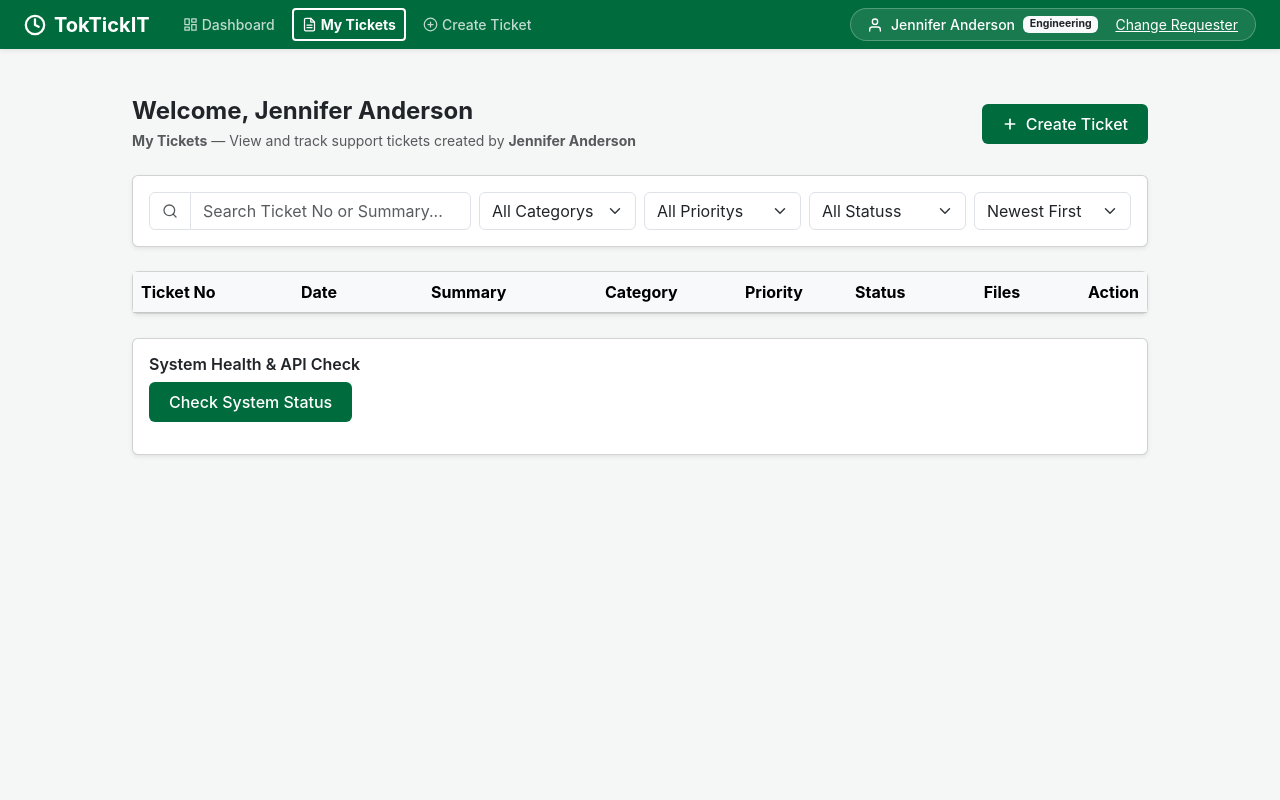
Scenario: Create Ticket Form Component (Issue 9) › renders Create Ticket form with red asterisk markers, read-only previews, and cancel button
The width and height of the screenshot is (1280, 800).
Note: Click 'Create Ticket' in header
What coordinates should you click on to do the following:
click the button "Create Ticket" in the row of "TokTickIT"
I would click on:
 (477, 24)
Its box is [414,9,541,40].
(page scrolled)
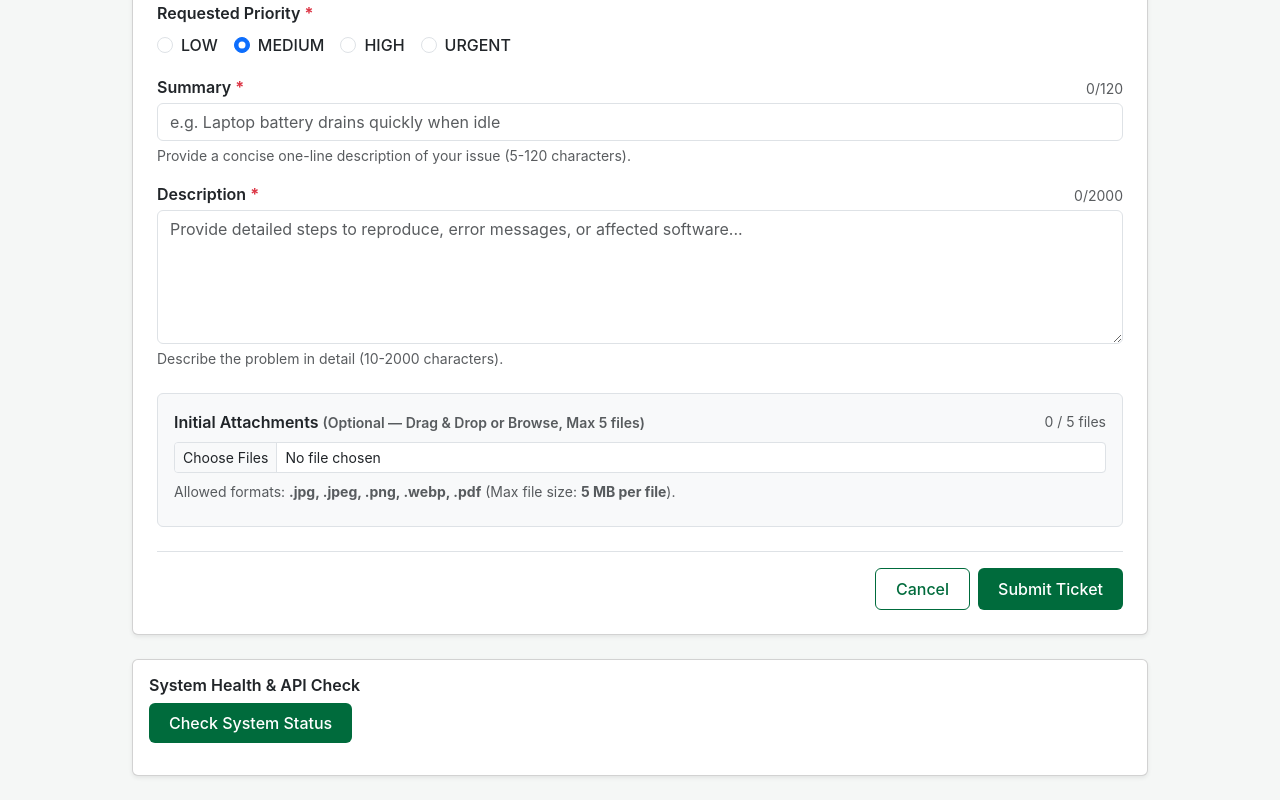
Check: the field labelled "Summary *" is shown, box [157,103,1123,141]
Check: the text box labelled "Description *" is shown, box [157,210,1123,344]
Check: the button "Cancel" is shown, box [875,568,970,610]
